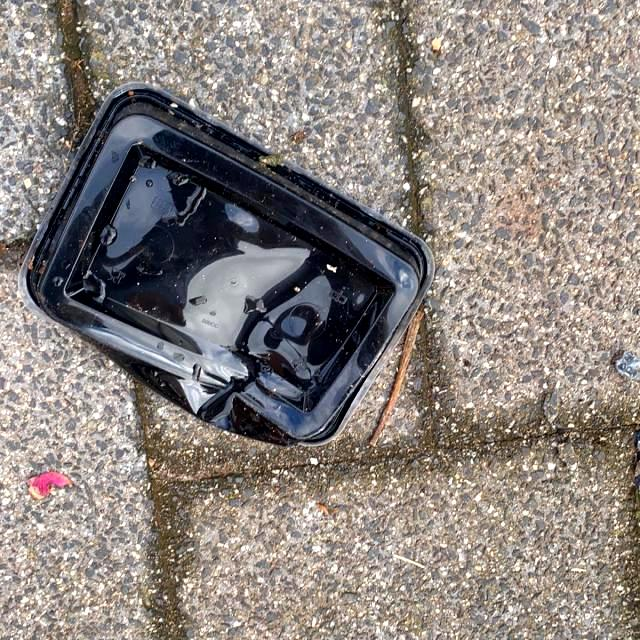Plastic: (9, 76, 435, 454)
